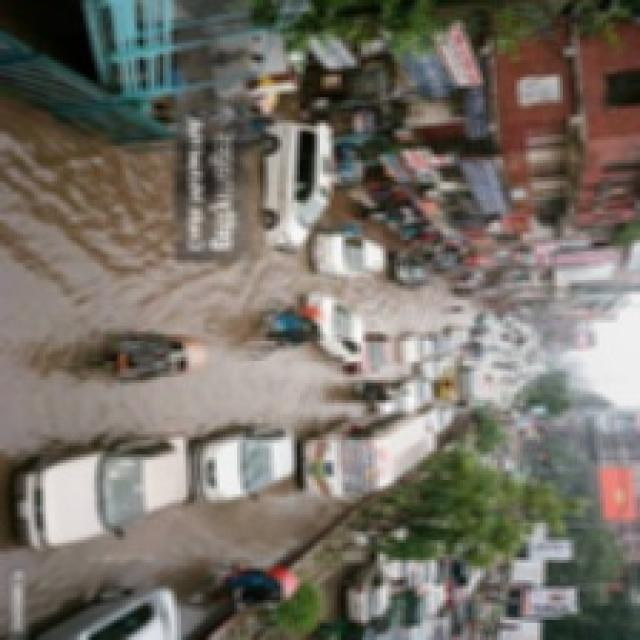car: (24, 432, 199, 532), (261, 116, 331, 253), (41, 580, 187, 640), (188, 428, 302, 493), (303, 289, 364, 362), (308, 231, 388, 277), (338, 559, 395, 613), (389, 250, 435, 292), (350, 335, 397, 371), (404, 373, 437, 406), (400, 335, 433, 364), (420, 579, 449, 611), (424, 403, 453, 434), (419, 355, 446, 383), (407, 558, 434, 585), (434, 333, 458, 359), (448, 325, 471, 345)
rickshaw: (84, 324, 205, 395), (193, 557, 292, 617), (252, 296, 324, 364), (353, 376, 394, 410)
